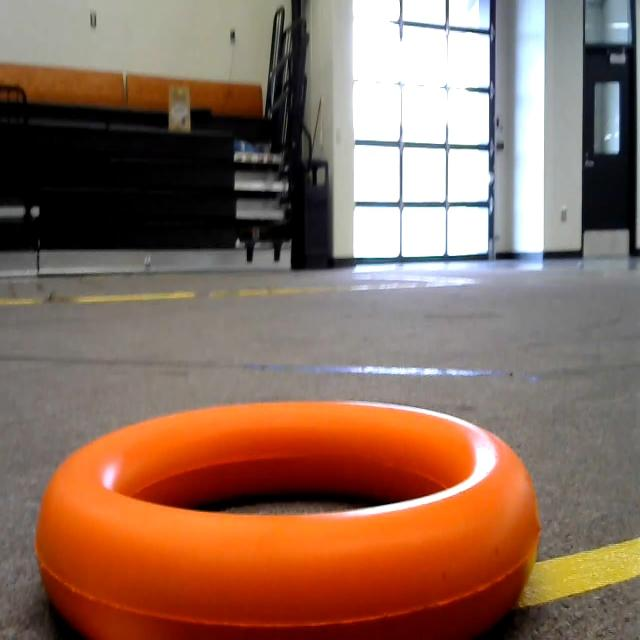note: (31, 377, 545, 640)
